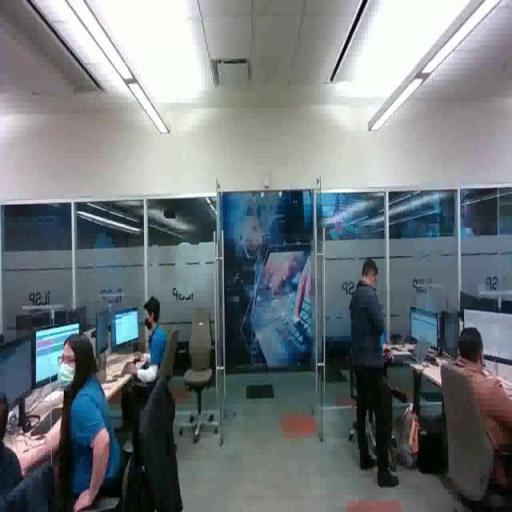person: (45, 328, 143, 512), (437, 323, 512, 512), (349, 252, 400, 488), (117, 296, 186, 419)
